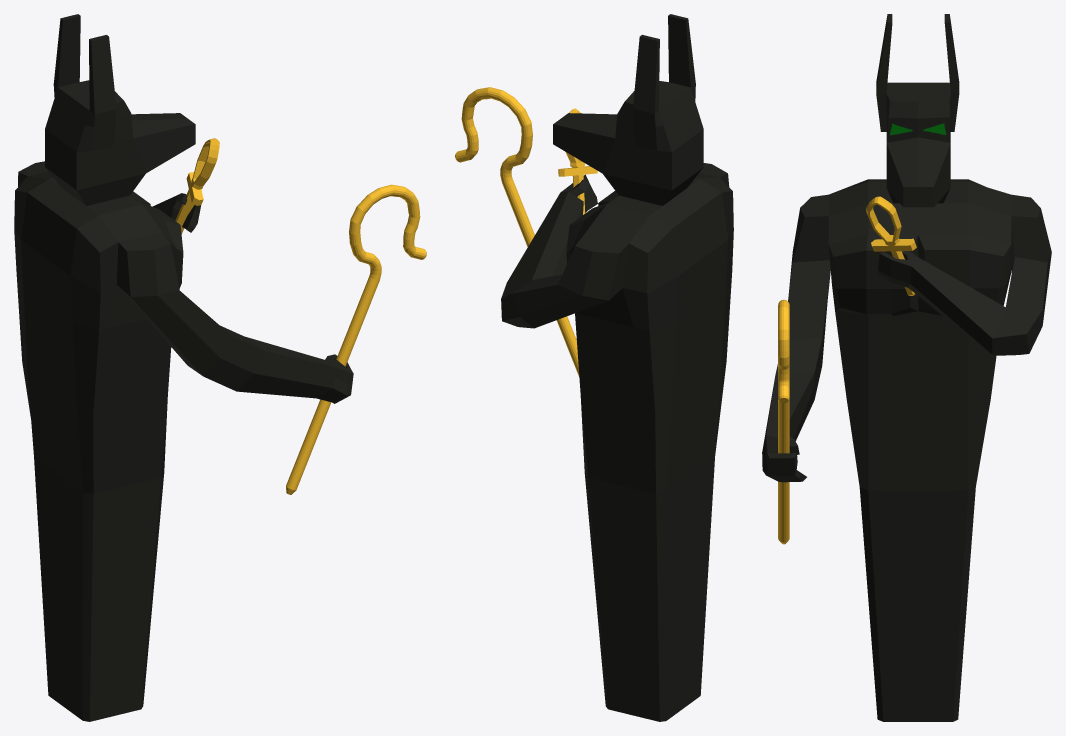
File: anubis.glb
The picture shows the model from 3 angles, left to right: view 1: azimuth 30°, elevation 25°; view 2: azimuth 150°, elevation 25°; view 3: azimuth 270°, elevation 25°; orthographic projection.
Visible parts, largest first — view 1: Anubis_Cube, Scepter_Cylinder.001, Anhk_Cylinder.003; view 2: Anubis_Cube, Scepter_Cylinder.001, Anhk_Cylinder.003; view 3: Anubis_Cube, Scepter_Cylinder.001, Anhk_Cylinder.003.
Boxes of the visible parts, box(x1,y1,x2,y2) form: Anubis_Cube: box(14, 14, 353, 721); Scepter_Cylinder.001: box(286, 184, 426, 494); Anhk_Cylinder.003: box(175, 138, 219, 233); Anubis_Cube: box(501, 14, 733, 721); Scepter_Cylinder.001: box(455, 87, 579, 376); Anhk_Cylinder.003: box(558, 108, 597, 214); Anubis_Cube: box(762, 14, 1051, 721); Scepter_Cylinder.001: box(778, 299, 789, 544); Anhk_Cylinder.003: box(866, 196, 916, 295).
Size of the model in its own units: 6.28 by 12.94 by 4.97.
3 materials, 3 textured.
